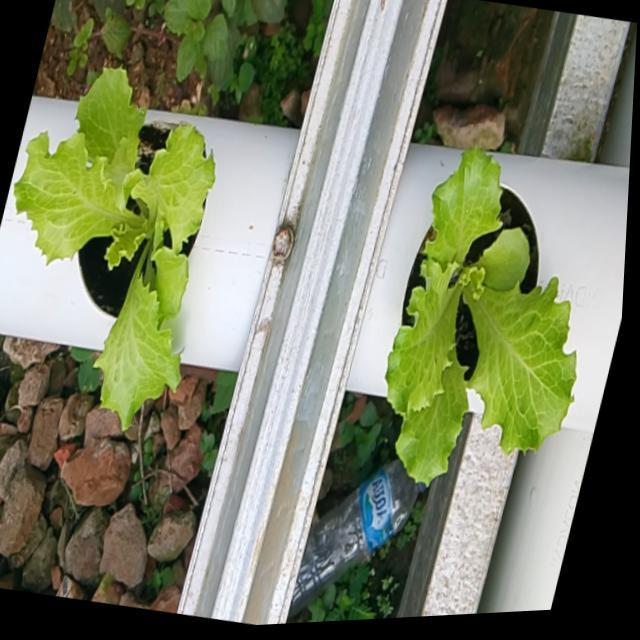Baby: (11, 64, 212, 426), (380, 143, 572, 484)
